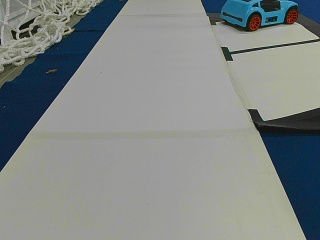car: (220, 1, 298, 30)
